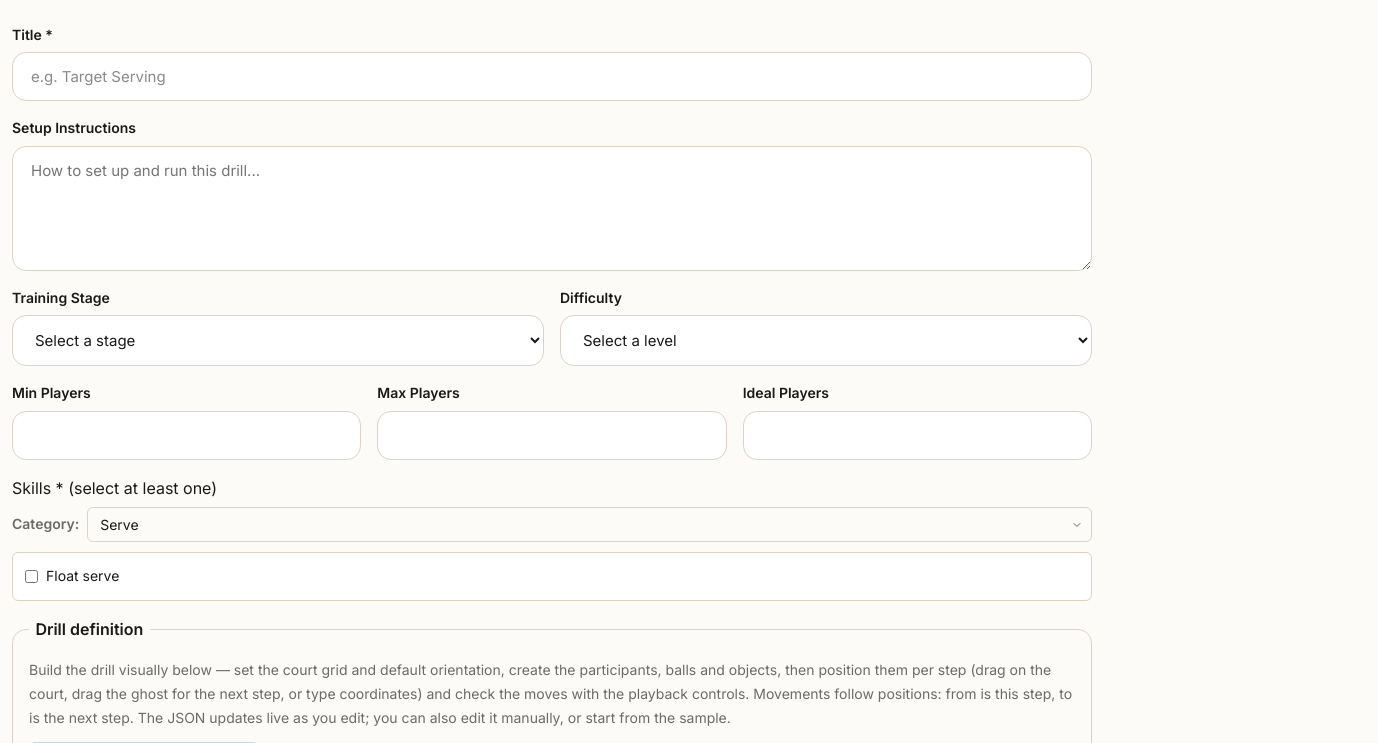
Test: DrillForm — skills picker › opens on the first category and lists only its skills
Expected: the text "Float serve" is shown, x1=46 y1=565 x2=119 y2=588
Expected: the text "Bump pass" is not shown
Switching category swaps the visible skills.
Select "Pass" in the dropdown labelled "Category:" at (590, 525), box x1=87 y1=507 x2=1092 y2=542
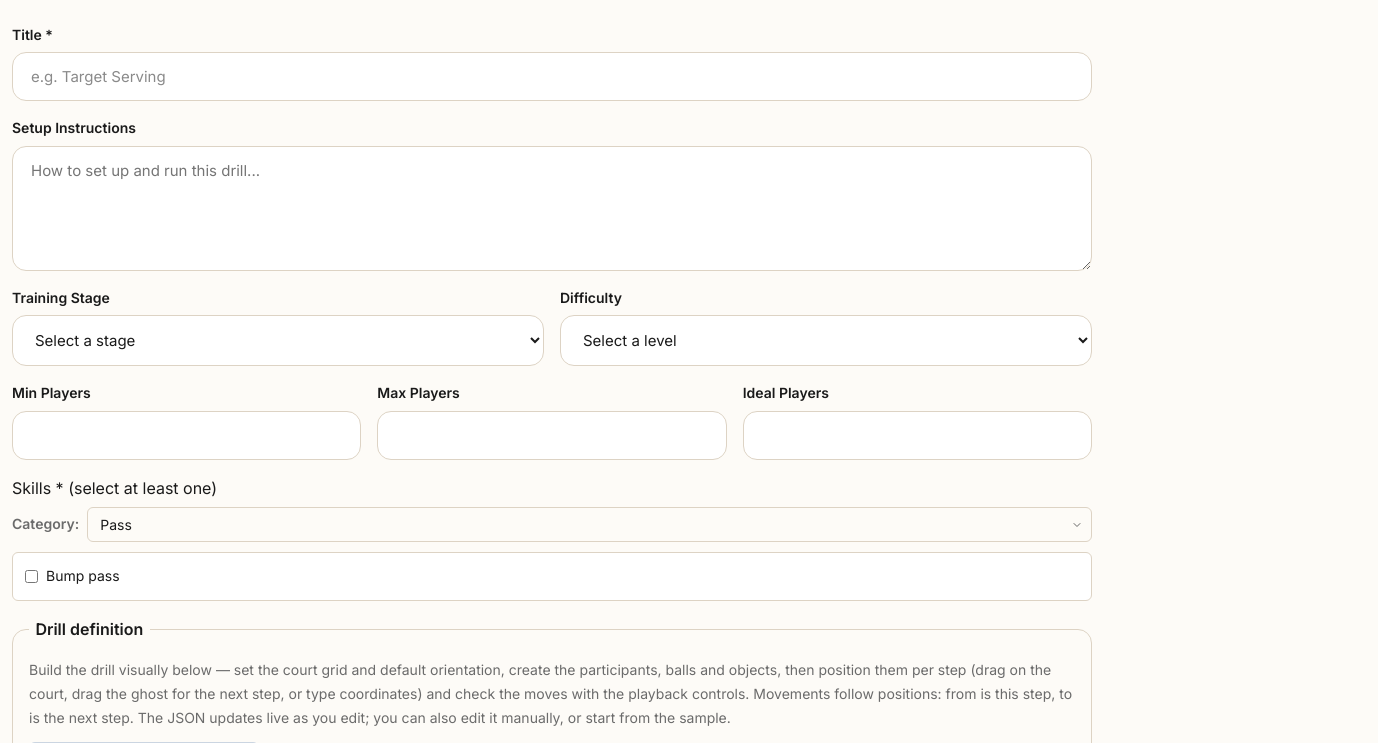
Expected: the text "Bump pass" is shown, x1=46 y1=565 x2=120 y2=588
Expected: the text "Float serve" is gone
